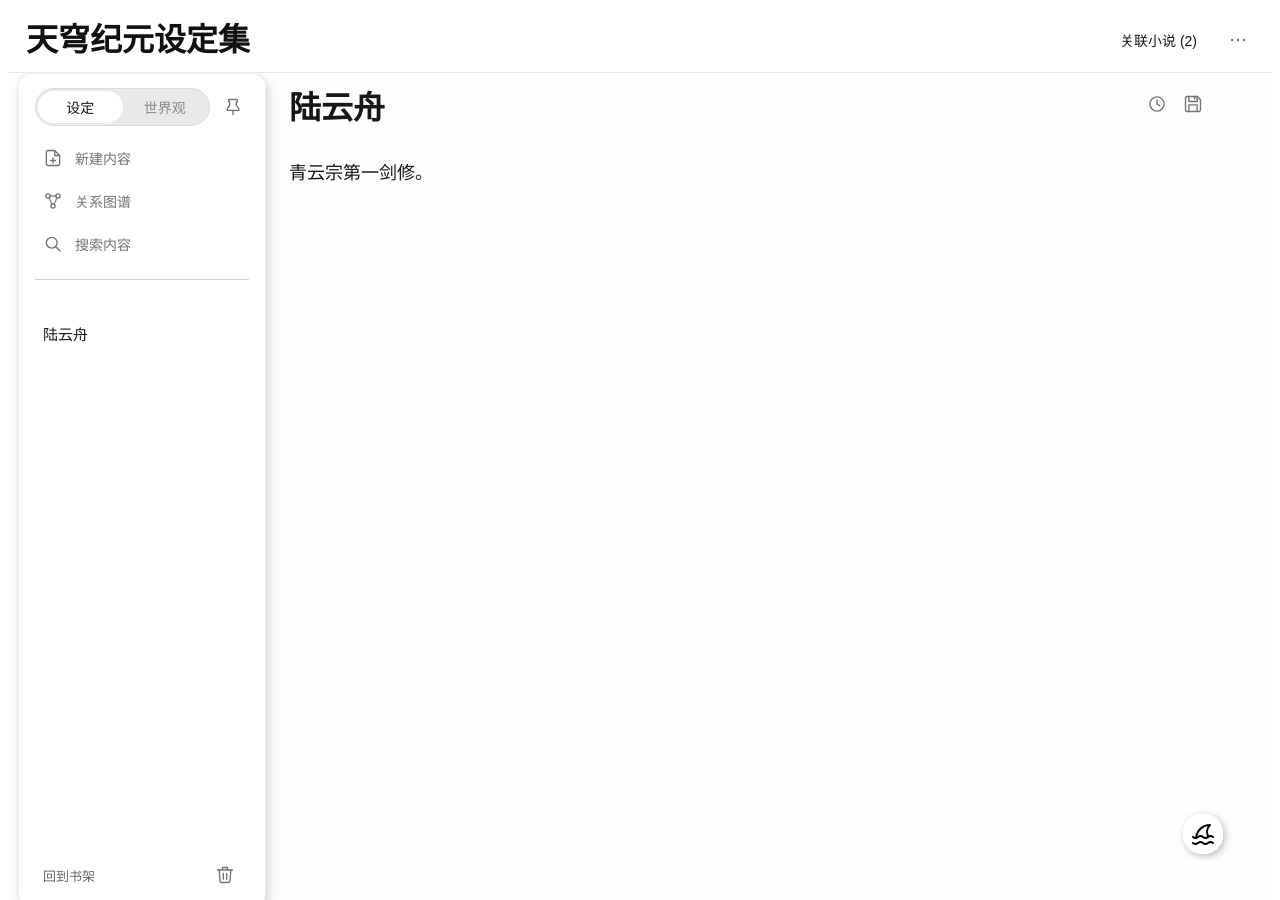
SettingCollectionWorkspace › allows reloading latest server content to resolve conflict
Expected: the heading "天穹纪元设定集" is shown, left=26, top=17, right=250, bottom=63
Clear the field named "设定正文" at (361, 173), box left=289, top=163, right=433, bottom=183
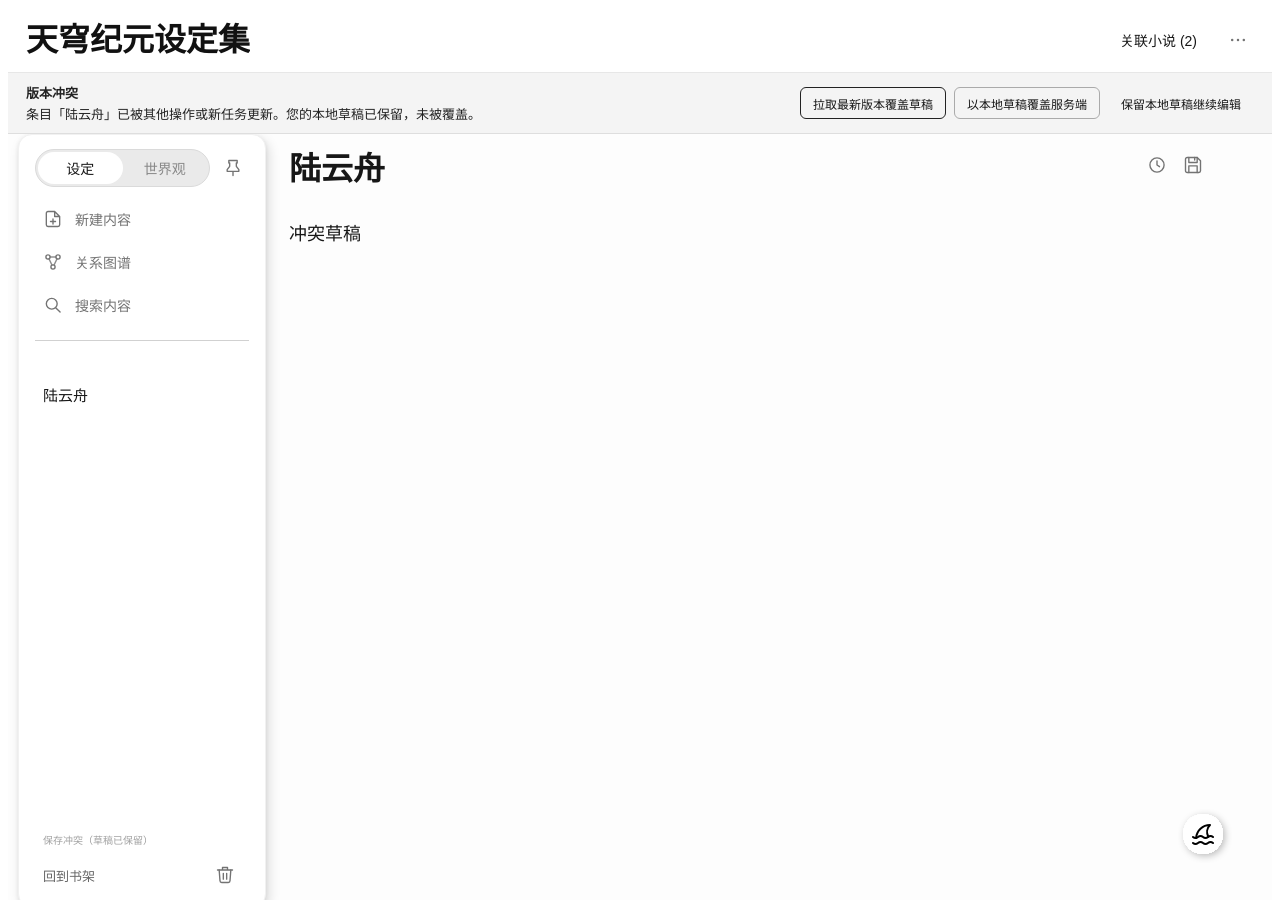
Result: the message "版本冲突 条目「陆云舟」已被其他操作或新任务更新。您的本地草稿已保留，未被覆盖。 拉取最新版本覆盖草稿 以本地草稿覆盖服务端 保留本地草稿继续编辑" is shown at left=8, top=73, right=1272, bottom=134
Click the button "拉取最新版本覆盖草稿" at (873, 103), box left=800, top=87, right=946, bottom=119
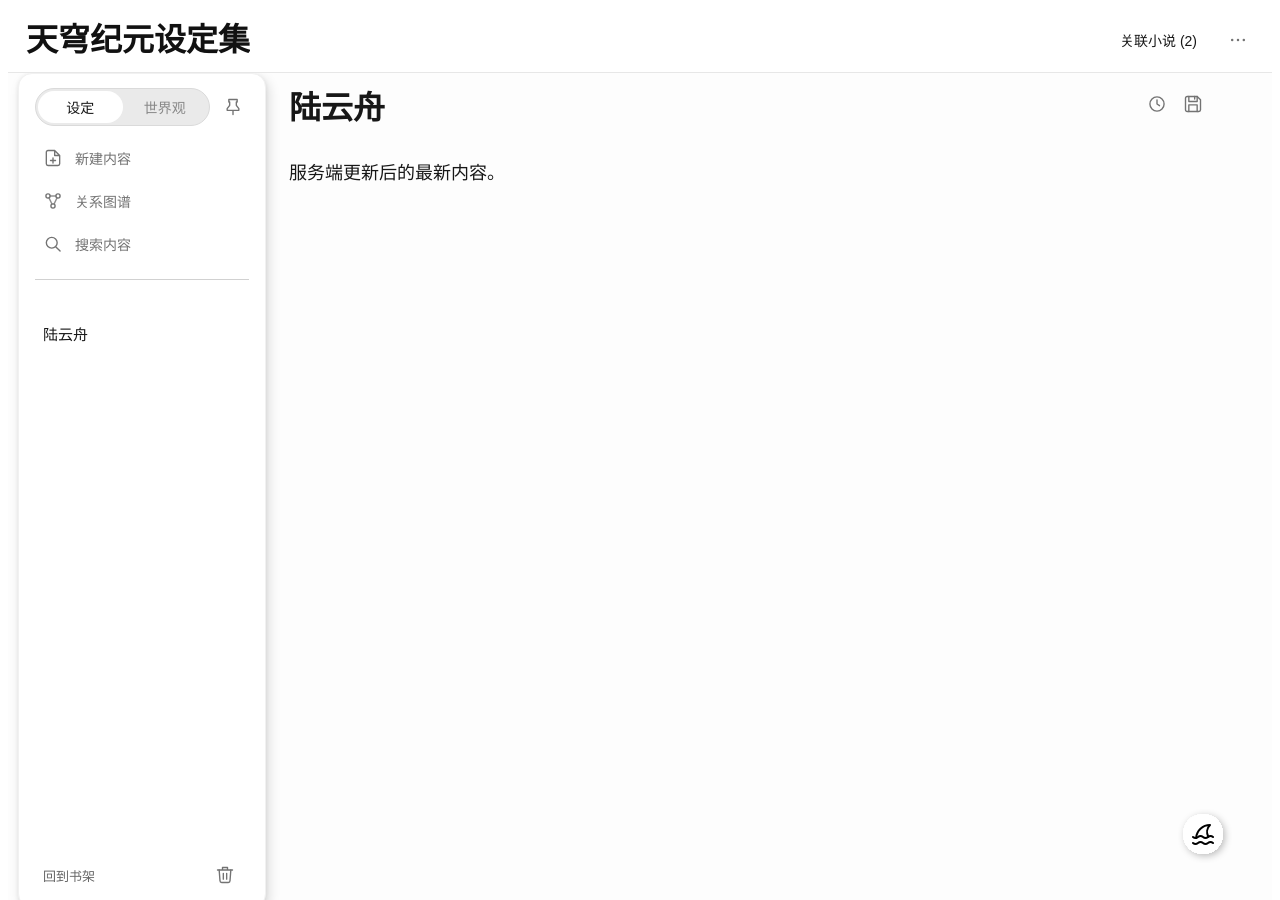
Result: the text "版本冲突" is gone
